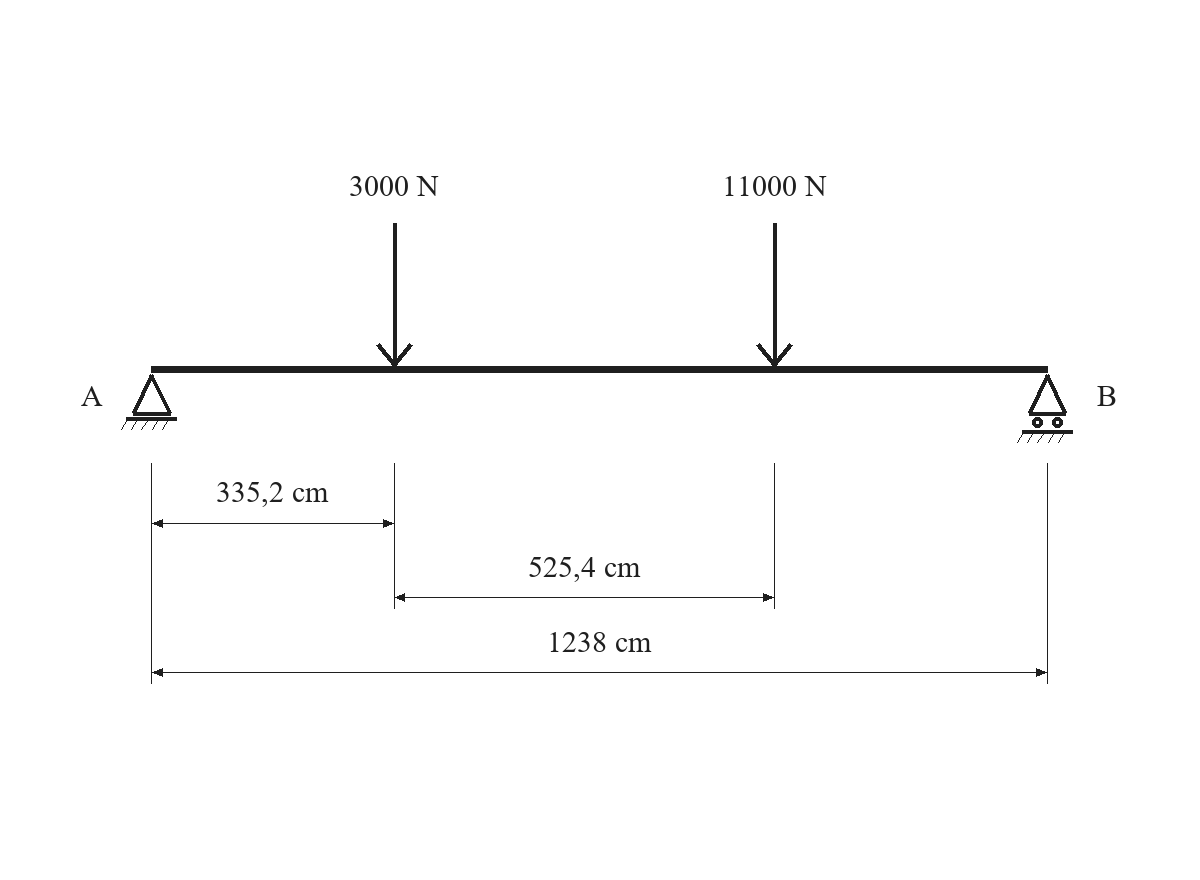pin_support: (121, 374, 177, 430)
point_load: (376, 223, 413, 367), (756, 223, 793, 367)
roller_support: (1017, 374, 1073, 443)
